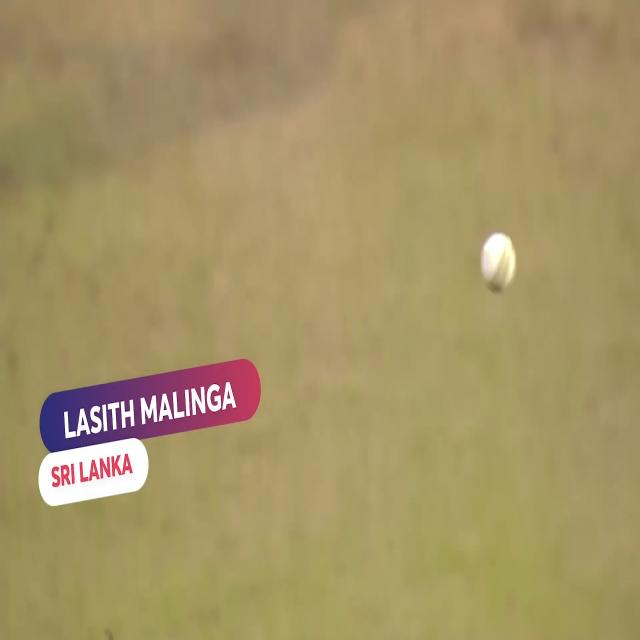ball: (474, 232, 518, 286)
